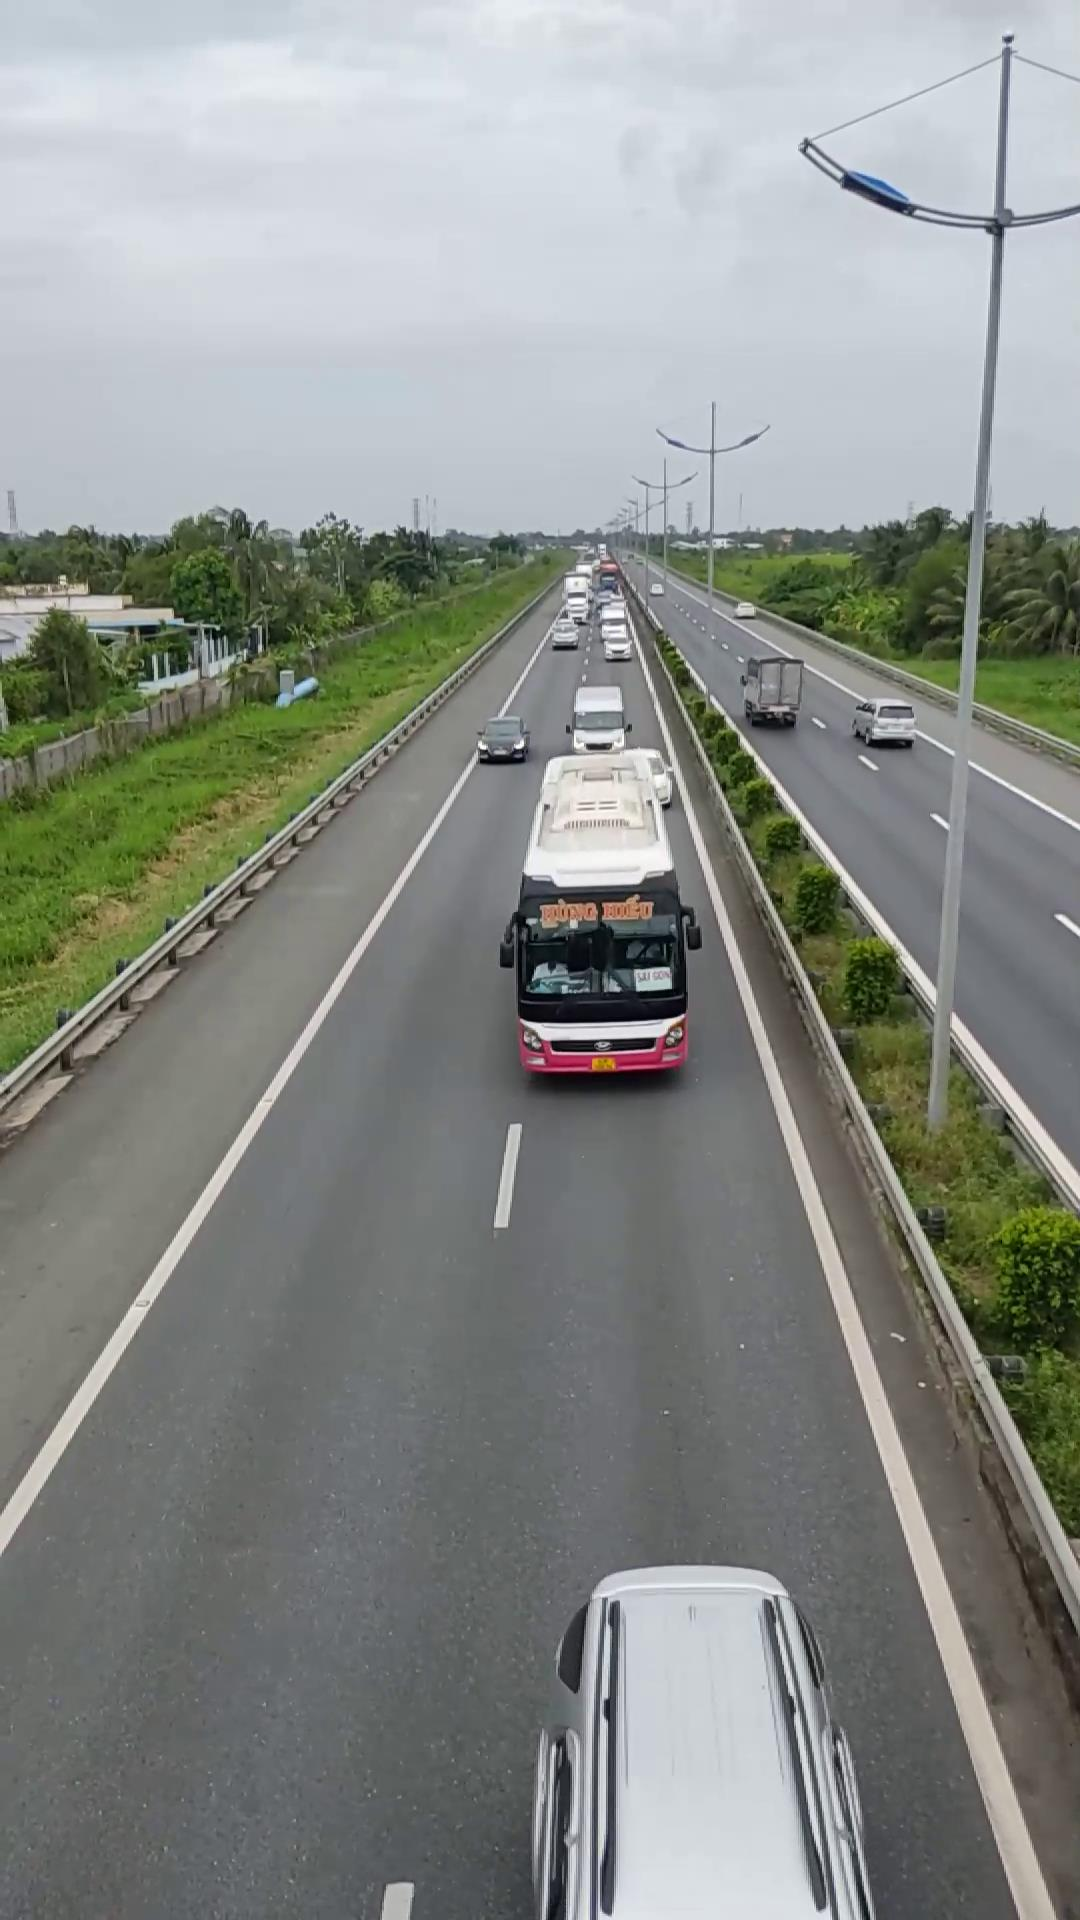bus: (498, 756, 696, 1081)
car: (527, 1563, 872, 1917)
truck: (738, 653, 800, 727)
